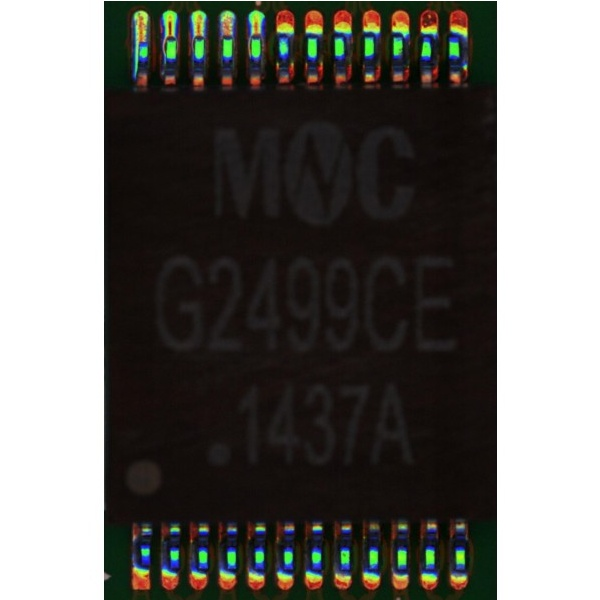Bad_podu: (222, 26, 232, 42), (194, 25, 203, 42), (166, 27, 175, 44), (137, 32, 146, 49), (251, 26, 260, 42)
Bad_qiaojiao: (131, 39, 136, 78), (160, 41, 165, 72)
